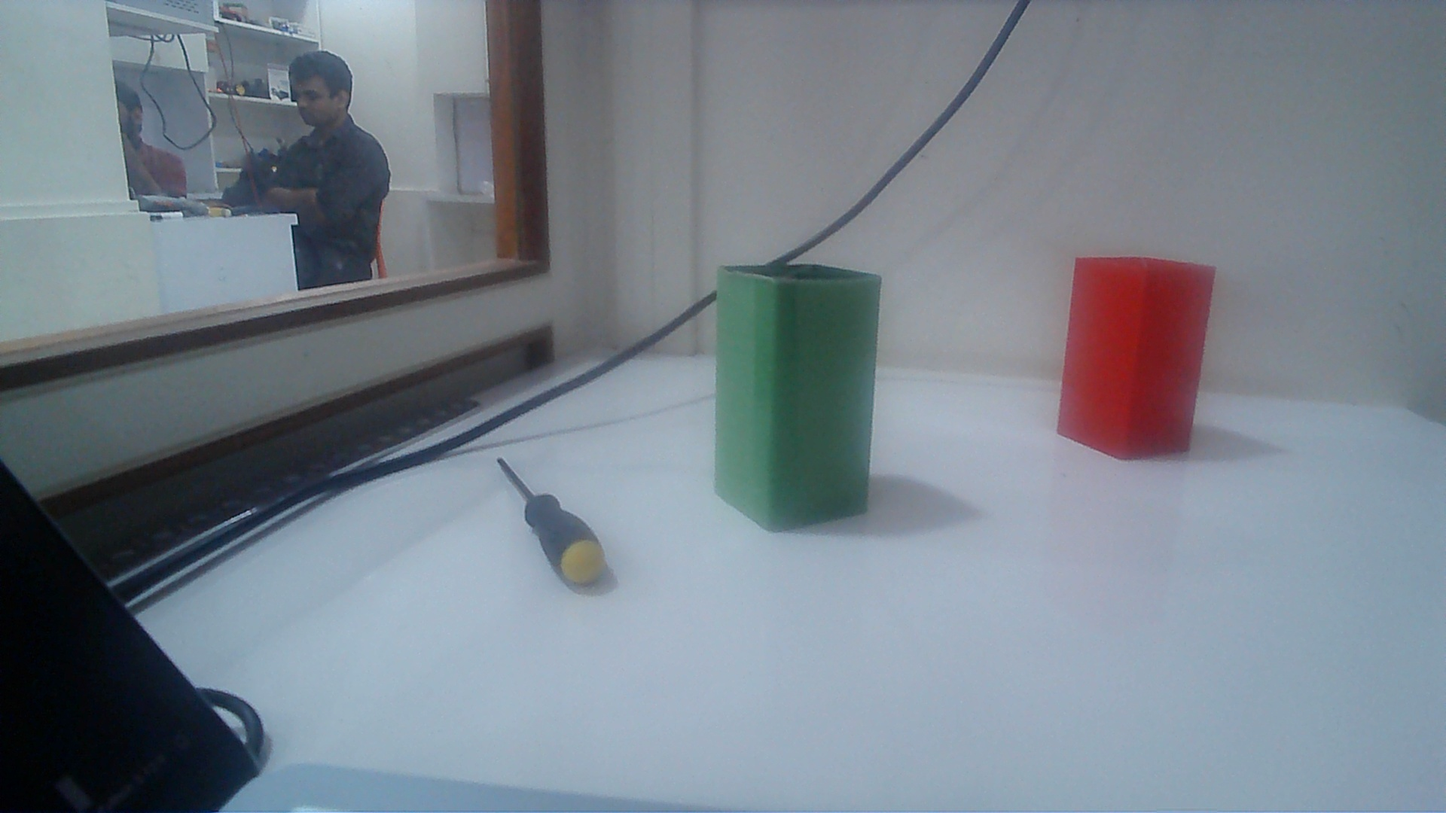red: (1055, 253, 1218, 461)
